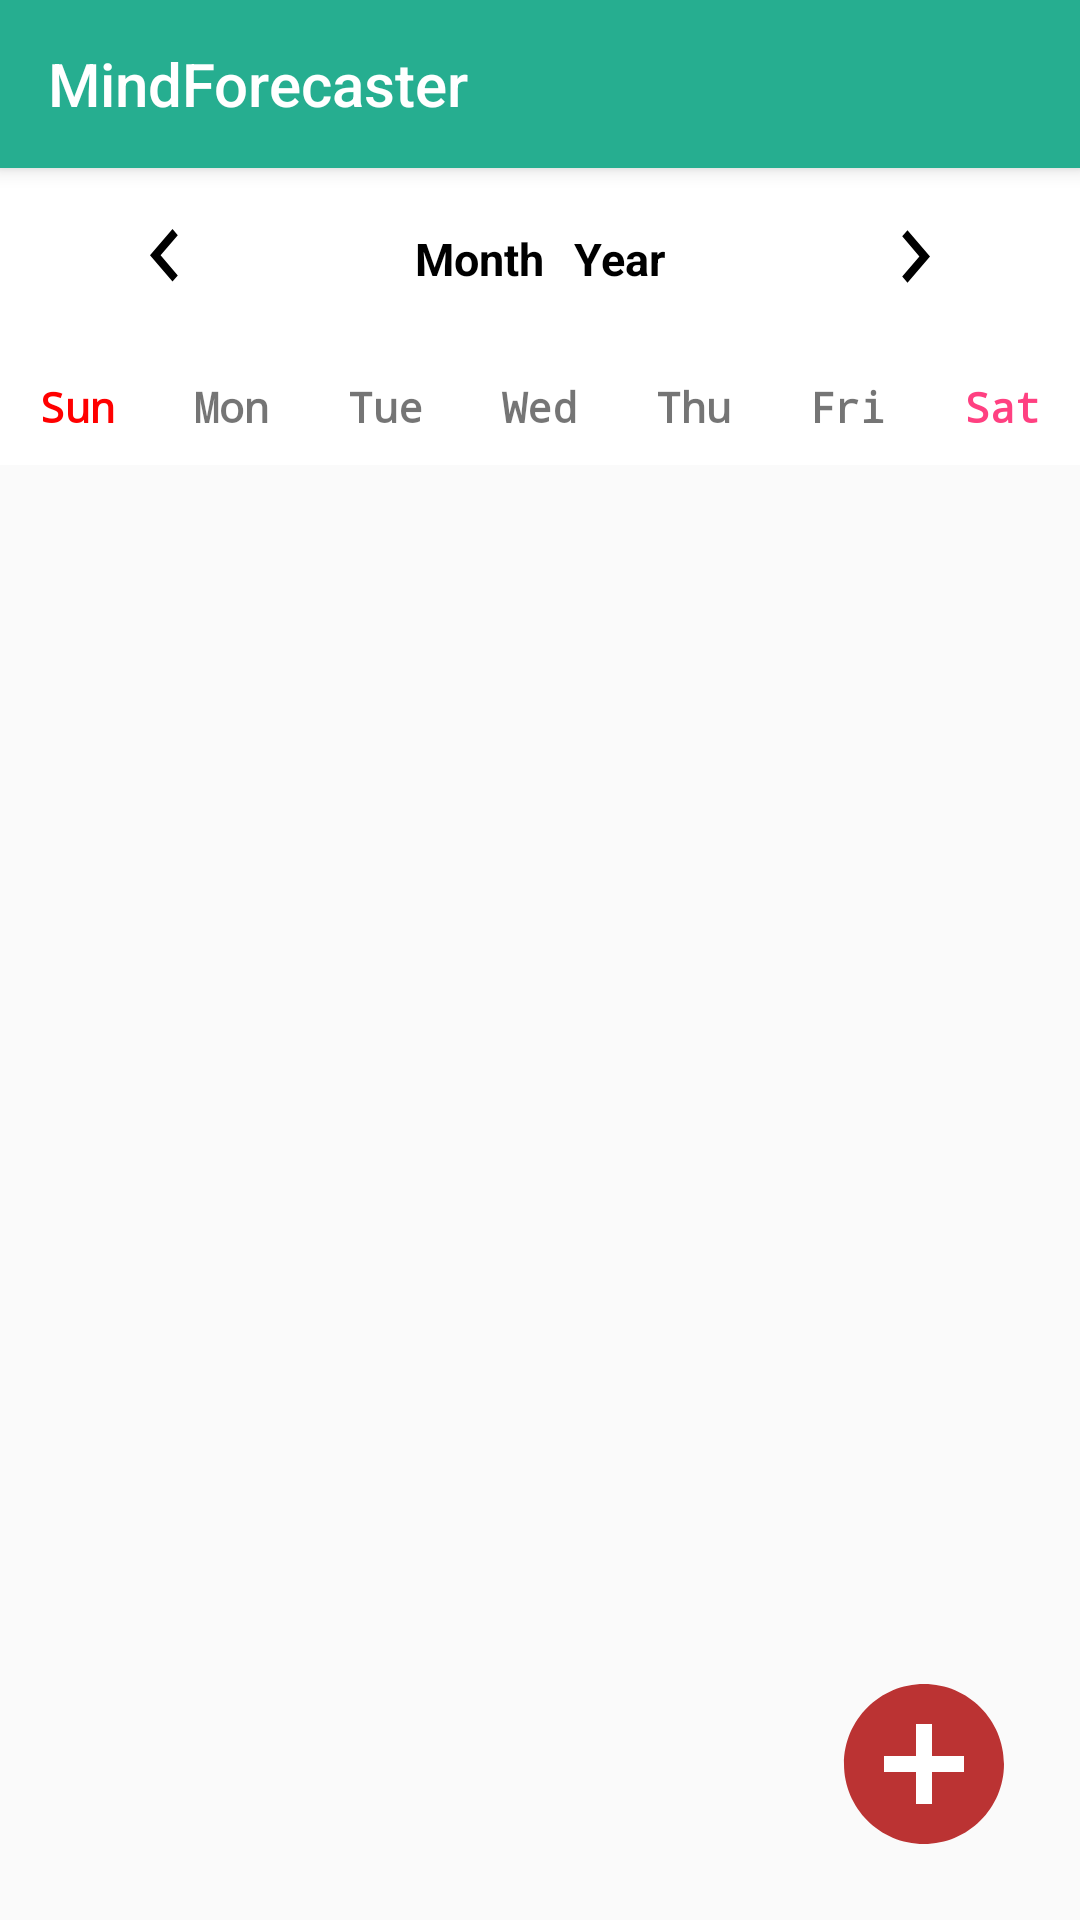

Where to tap for icons on this 1080px×1920px app screen, as point (x, y):
add: point (924, 1764)
